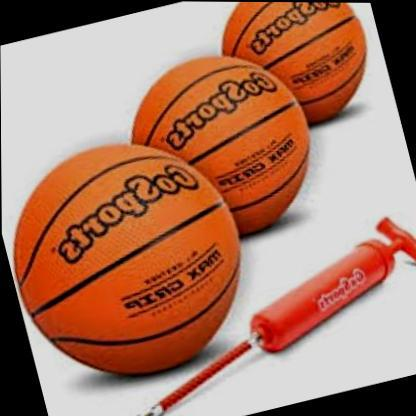basketball: (1, 117, 266, 402), (111, 36, 333, 260), (204, 1, 384, 142)
